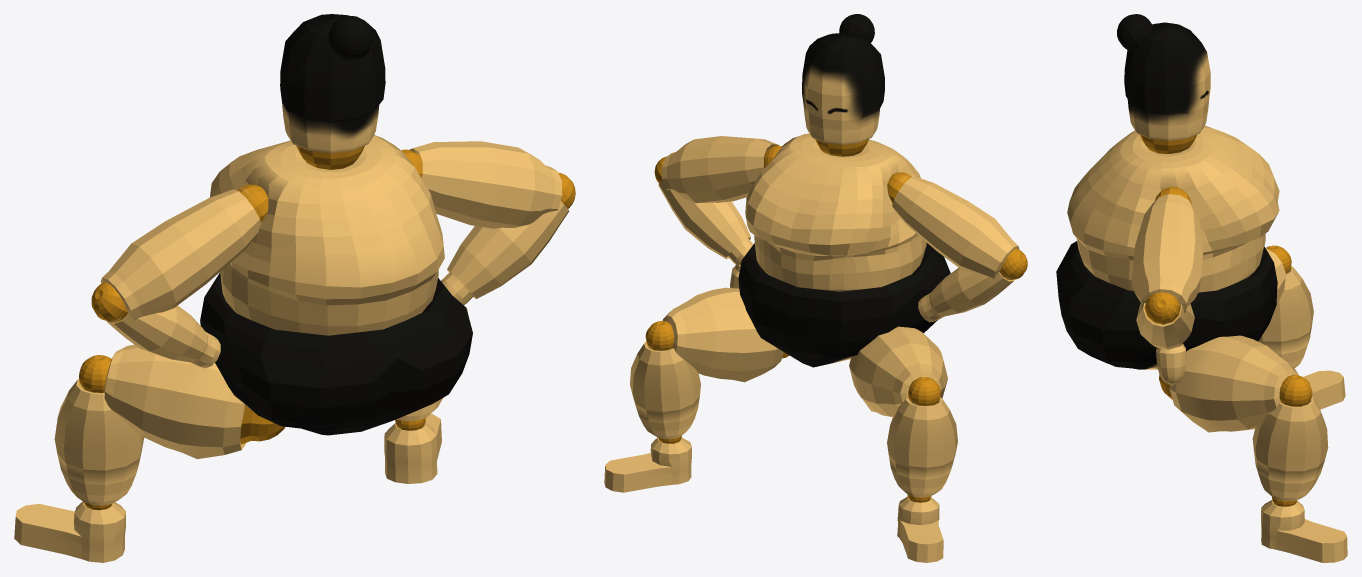
Rendered from MannequinSumo.fbx.
3 views of the same model, side by side, from view 1: azimuth 30°, elevation 25°; view 2: azimuth 150°, elevation 25°; view 3: azimuth 270°, elevation 25° (orthographic). The views are drawn at different scales.
Parts seen in each view (by area): view 1: polySurface59; view 2: polySurface59; view 3: polySurface59.
Part boxes in pixels (bbox=[...]): polySurface59: bbox=[14, 14, 575, 562]; polySurface59: bbox=[604, 14, 1027, 562]; polySurface59: bbox=[1056, 14, 1347, 562].
Bounding box in the file's own units: 23.97 × 26.98 × 15.27.
Materials: 1 (1 with a texture image).
